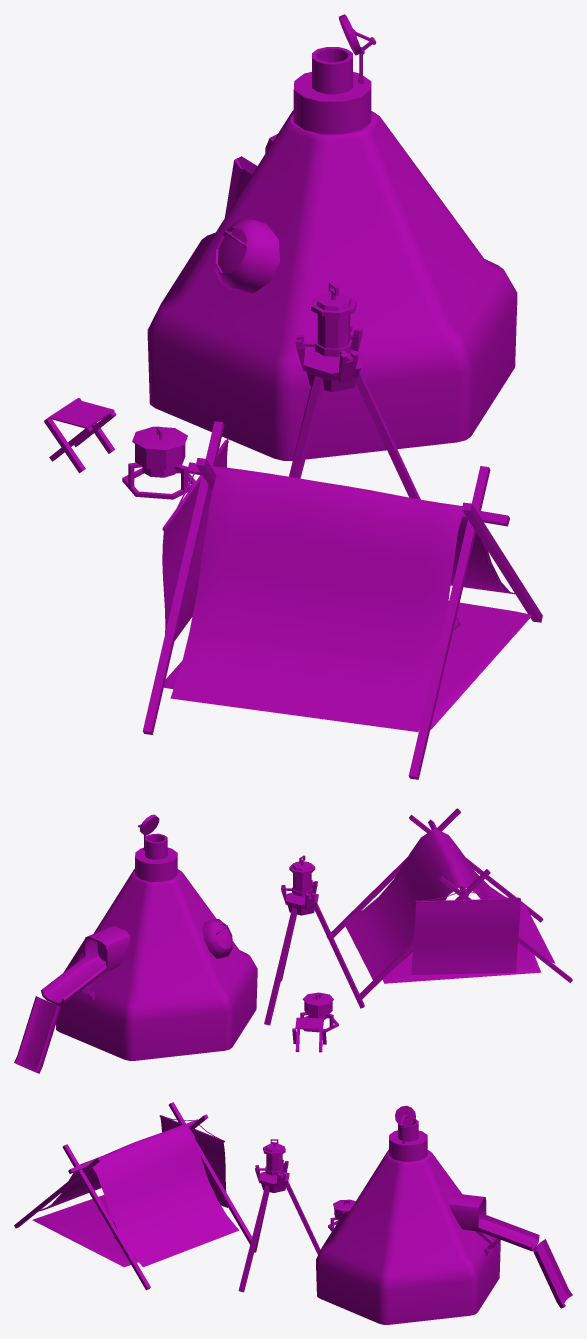
Rendered from Camp_Prefab.fbx.
3 views of the same model, one above another, from view 1: azimuth 30°, elevation 25°; view 2: azimuth 150°, elevation 25°; view 3: azimuth 270°, elevation 25° (orthographic). The views are drawn at different scales.
Visible parts, largest first — view 1: Furnace_Stone, Tent_CLoth, Tent_Wood, Furnace_Steel, Lantern_Steel, Tent_Curtain_Back, Cooking_Pot, Foldable_Chair_Wood, Foldable_Chair_Cloth, Lantern_Glass; view 2: Furnace_Stone, Tent_CLoth, Furnace_Steel, Tent_Curtain_Back, Tent_Wood, Lantern_Steel, Tent_Curtain_Front, Cooking_Pot; view 3: Furnace_Stone, Tent_CLoth, Tent_Wood, Furnace_Steel, Lantern_Steel, Tent_Curtain_Back, Cooking_Pot.
Boxes of the visible parts, bbox=[...] form: Furnace_Stone: bbox=[147, 110, 517, 460]; Tent_CLoth: bbox=[170, 466, 514, 731]; Tent_Wood: bbox=[143, 421, 542, 779]; Furnace_Steel: bbox=[215, 14, 376, 293]; Lantern_Steel: bbox=[289, 282, 420, 499]; Tent_Curtain_Back: bbox=[162, 444, 227, 640]; Cooking_Pot: bbox=[122, 426, 195, 499]; Foldable_Chair_Wood: bbox=[44, 398, 116, 473]; Foldable_Chair_Cloth: bbox=[48, 399, 114, 428]; Lantern_Glass: bbox=[317, 314, 350, 348]; Furnace_Stone: bbox=[56, 869, 257, 1060]; Tent_CLoth: bbox=[343, 828, 555, 979]; Furnace_Steel: bbox=[14, 814, 232, 1073]; Tent_Curtain_Back: bbox=[411, 900, 520, 974]; Tent_Wood: bbox=[326, 808, 572, 999]; Lantern_Steel: bbox=[264, 855, 364, 1025]; Tent_Curtain_Front: bbox=[412, 901, 518, 974]; Cooking_Pot: bbox=[300, 992, 338, 1032]; Furnace_Stone: bbox=[316, 1149, 500, 1324]; Tent_CLoth: bbox=[39, 1124, 239, 1267]; Tent_Wood: bbox=[14, 1102, 251, 1290]; Furnace_Steel: bbox=[389, 1105, 572, 1308]; Lantern_Steel: bbox=[238, 1139, 320, 1292]; Tent_Curtain_Back: bbox=[160, 1117, 227, 1207]; Cooking_Pot: bbox=[328, 1199, 355, 1231].
Bounding box in the file's own units: 9.78 × 5.98 × 14.92.
